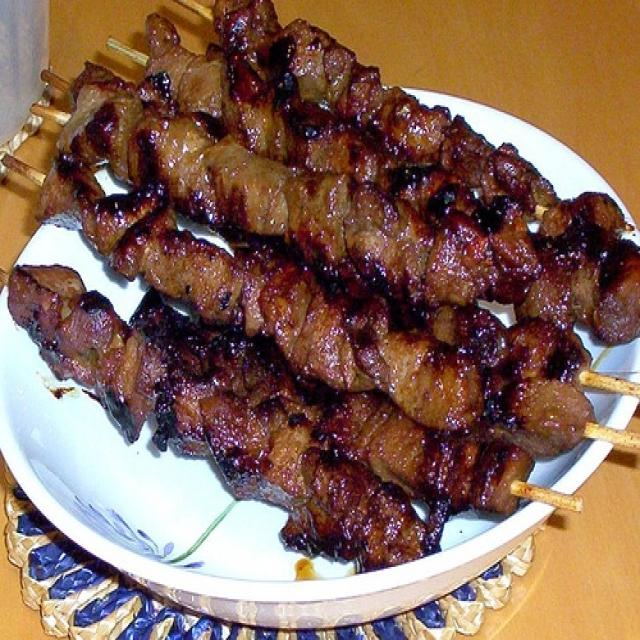牛肉菜式: (18, 6, 626, 602)
